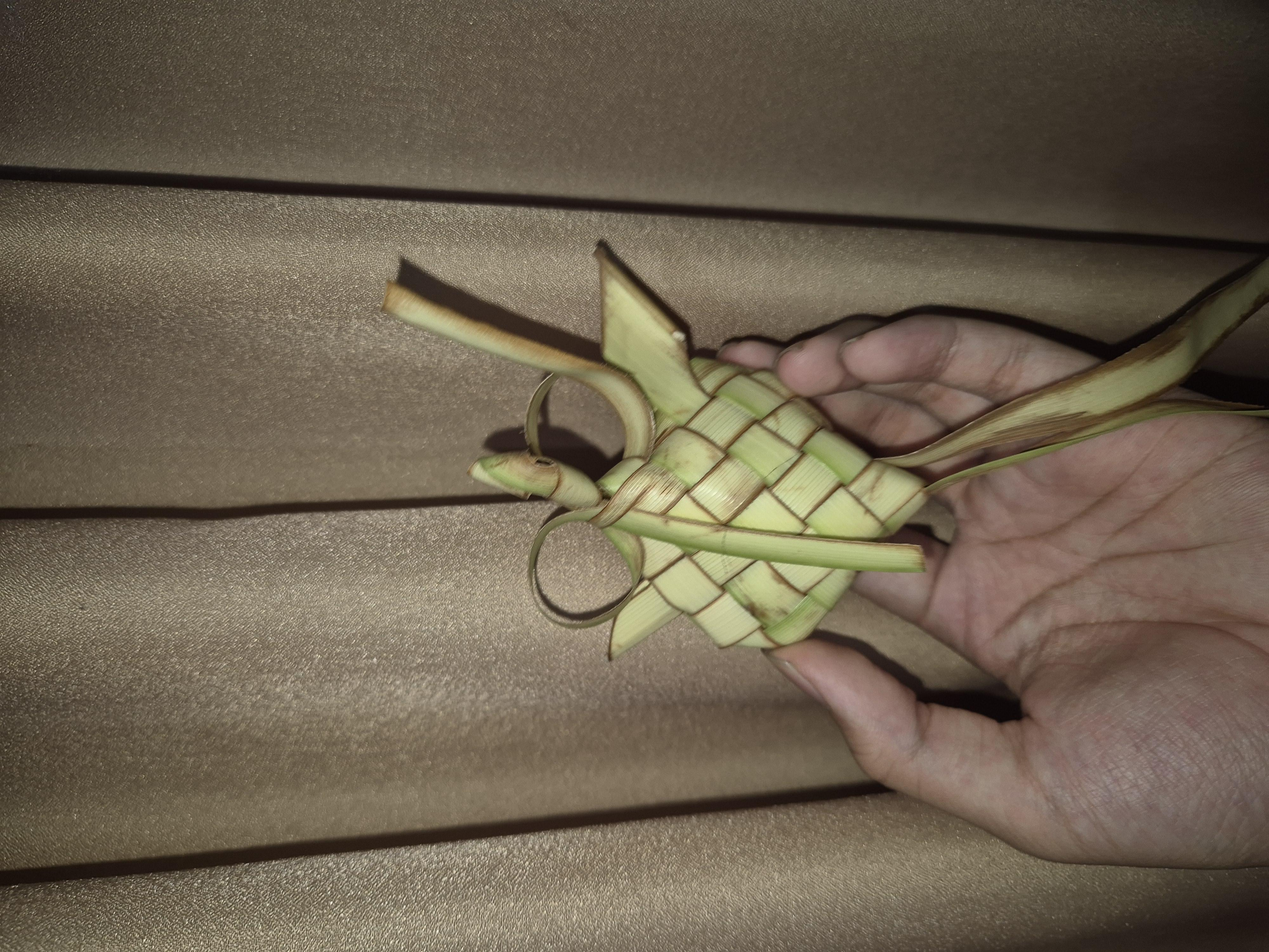Tipat Dampulan: (394, 287, 938, 695)
